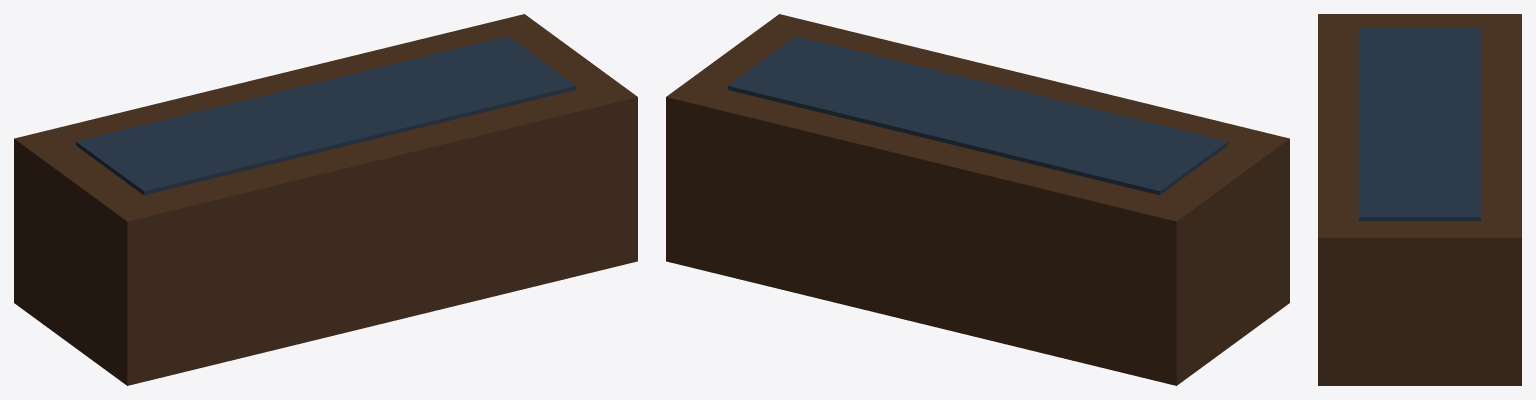
The model's file is prop_quench_trough.glb.
The picture shows the model from 3 angles, left to right: view 1: azimuth 30°, elevation 25°; view 2: azimuth 150°, elevation 25°; view 3: azimuth 270°, elevation 25°; orthographic projection. The views are drawn at different scales.
Visible parts, largest first — view 1: prop_quench_trough; view 2: prop_quench_trough; view 3: prop_quench_trough.
Part boxes in pixels (left/top/right/bottom): prop_quench_trough: left=14, top=14, right=637, bottom=385; prop_quench_trough: left=666, top=14, right=1289, bottom=385; prop_quench_trough: left=1318, top=14, right=1521, bottom=385.
Bounding box in the file's own units: 1.3 × 0.41 × 0.5.
